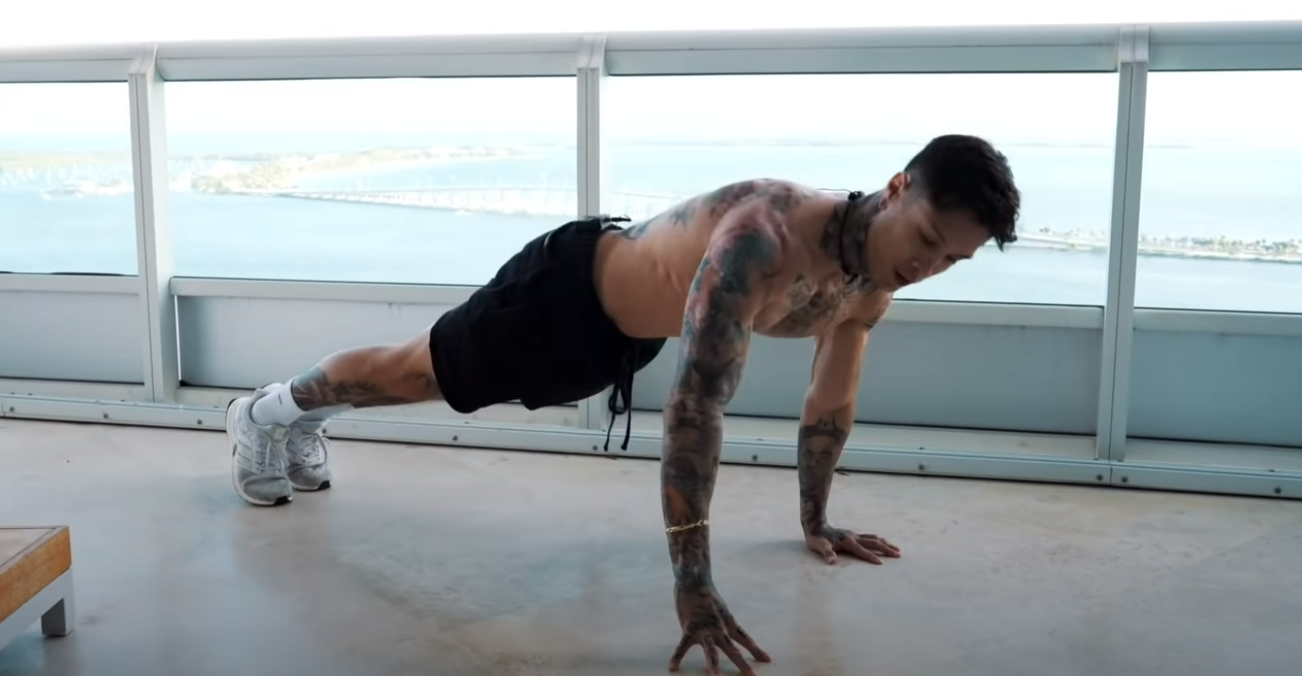up: (226, 133, 1022, 665)
